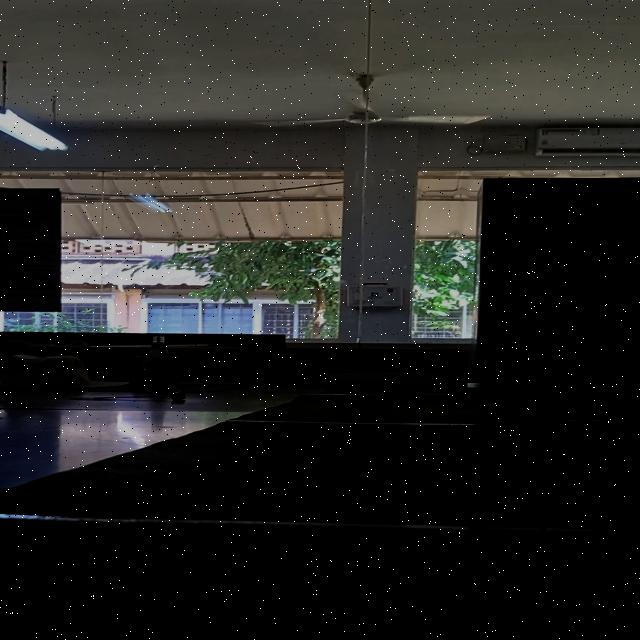Speed40: (546, 326, 628, 374)
